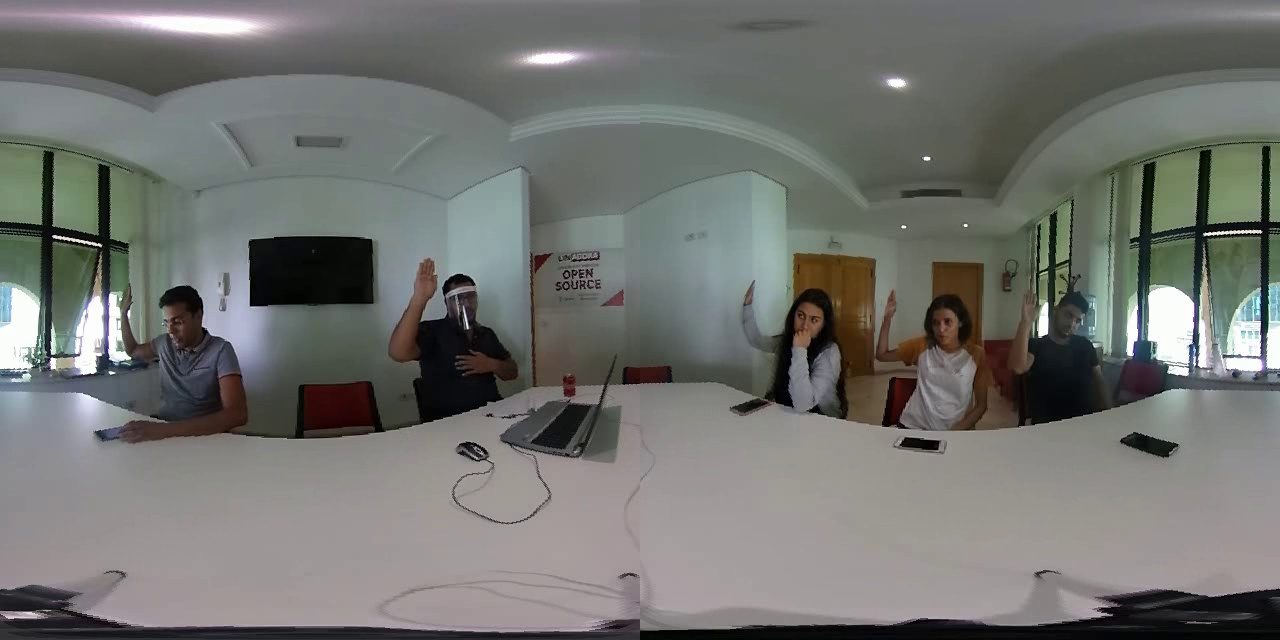person: (84, 266, 261, 444), (367, 247, 527, 403), (715, 266, 846, 417), (866, 282, 989, 430), (1002, 281, 1109, 422)
voting: (385, 258, 438, 367), (729, 275, 779, 362), (115, 274, 158, 365), (1008, 287, 1048, 378), (875, 287, 906, 371)
